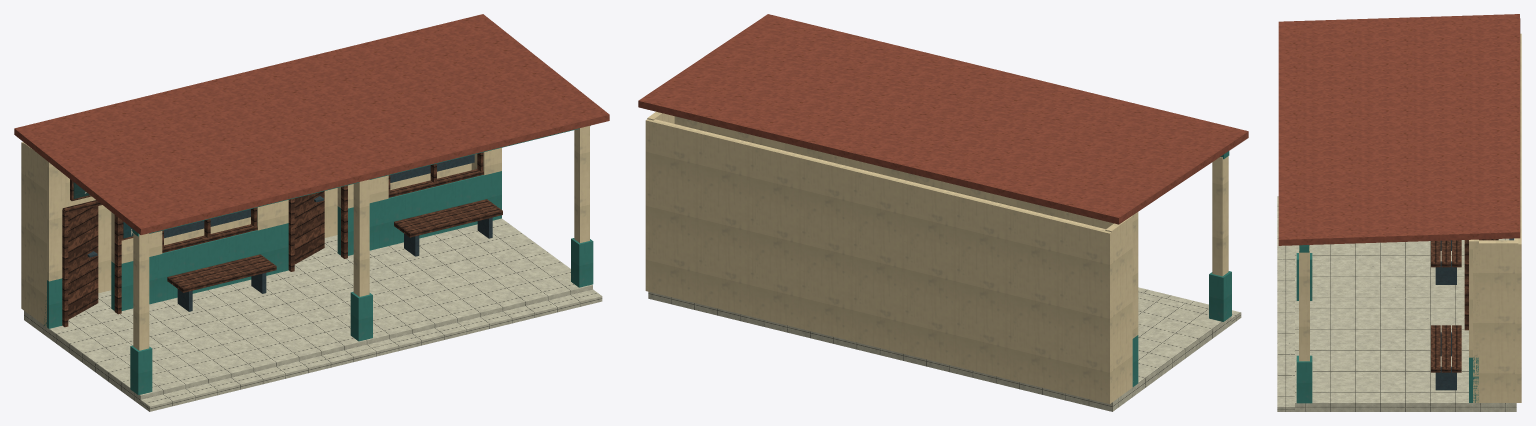
File: building.school.corridor.glb
The picture shows the model from 3 angles, left to right: view 1: azimuth 30°, elevation 25°; view 2: azimuth 150°, elevation 25°; view 3: azimuth 270°, elevation 25°; orthographic projection. The views are drawn at different scales.
Parts seen in each view (by area): view 1: building.school.corridor; view 2: building.school.corridor; view 3: building.school.corridor.
Boxes of the visible parts, bbox=[...] form: building.school.corridor: bbox=[14, 14, 609, 411]; building.school.corridor: bbox=[638, 14, 1248, 411]; building.school.corridor: bbox=[1277, 14, 1521, 411].
Size of the model in its own units: 9.32 by 3.65 by 4.41.
Materials: 9 (9 with a texture image).
